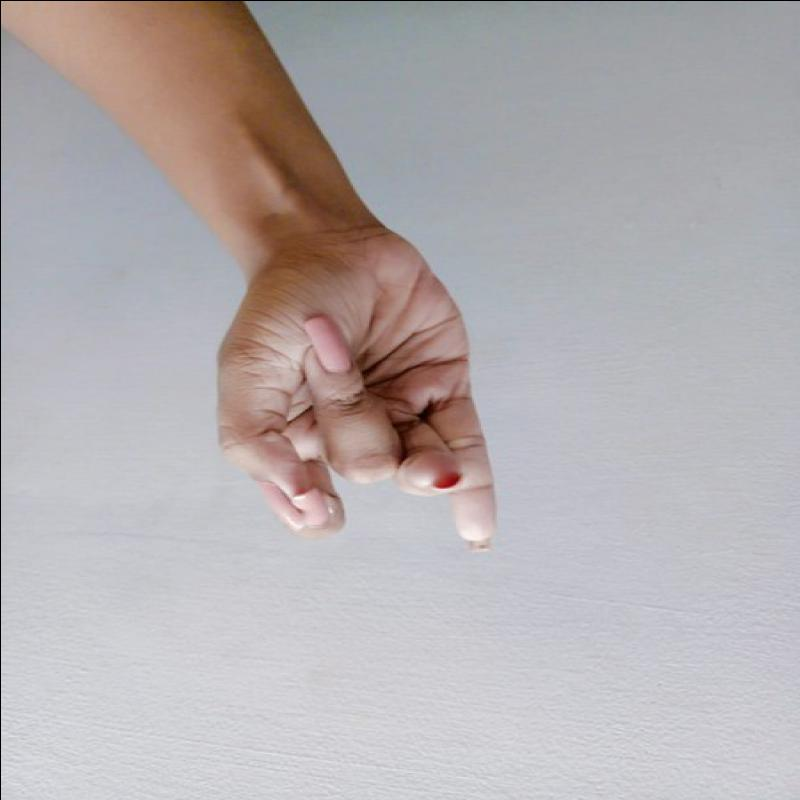Katakam: (179, 223, 529, 565)
